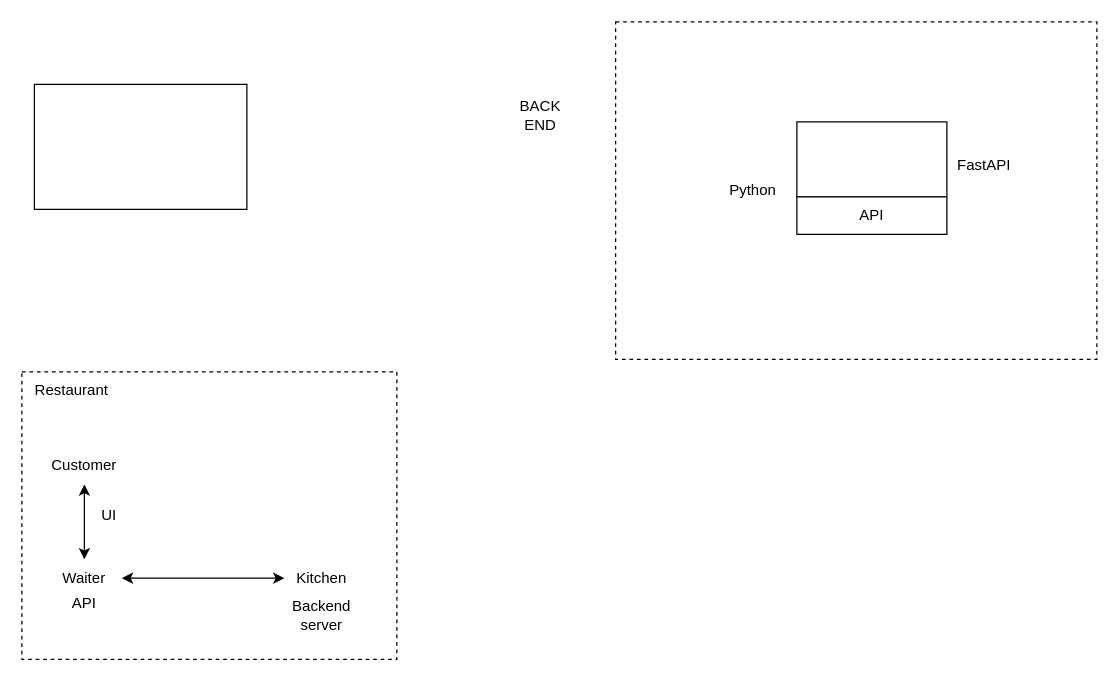
Image size: 1119x681. Some labels were removed from this diagram. The shapes that lost their labels are listed below. From the top down, each one's box as (x1, y1, x2, y2) in pixels, then its label:
(33, 83, 247, 209): FRONT END
(796, 121, 947, 197): User service
